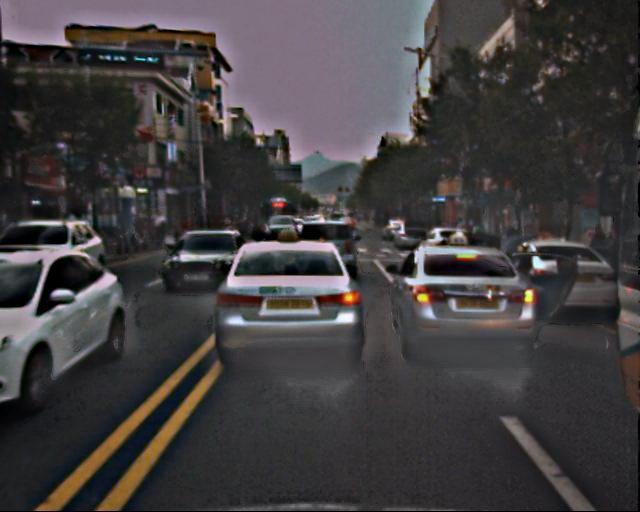person: (493, 225, 525, 304), (129, 209, 178, 247), (584, 223, 609, 284), (227, 210, 260, 244)
